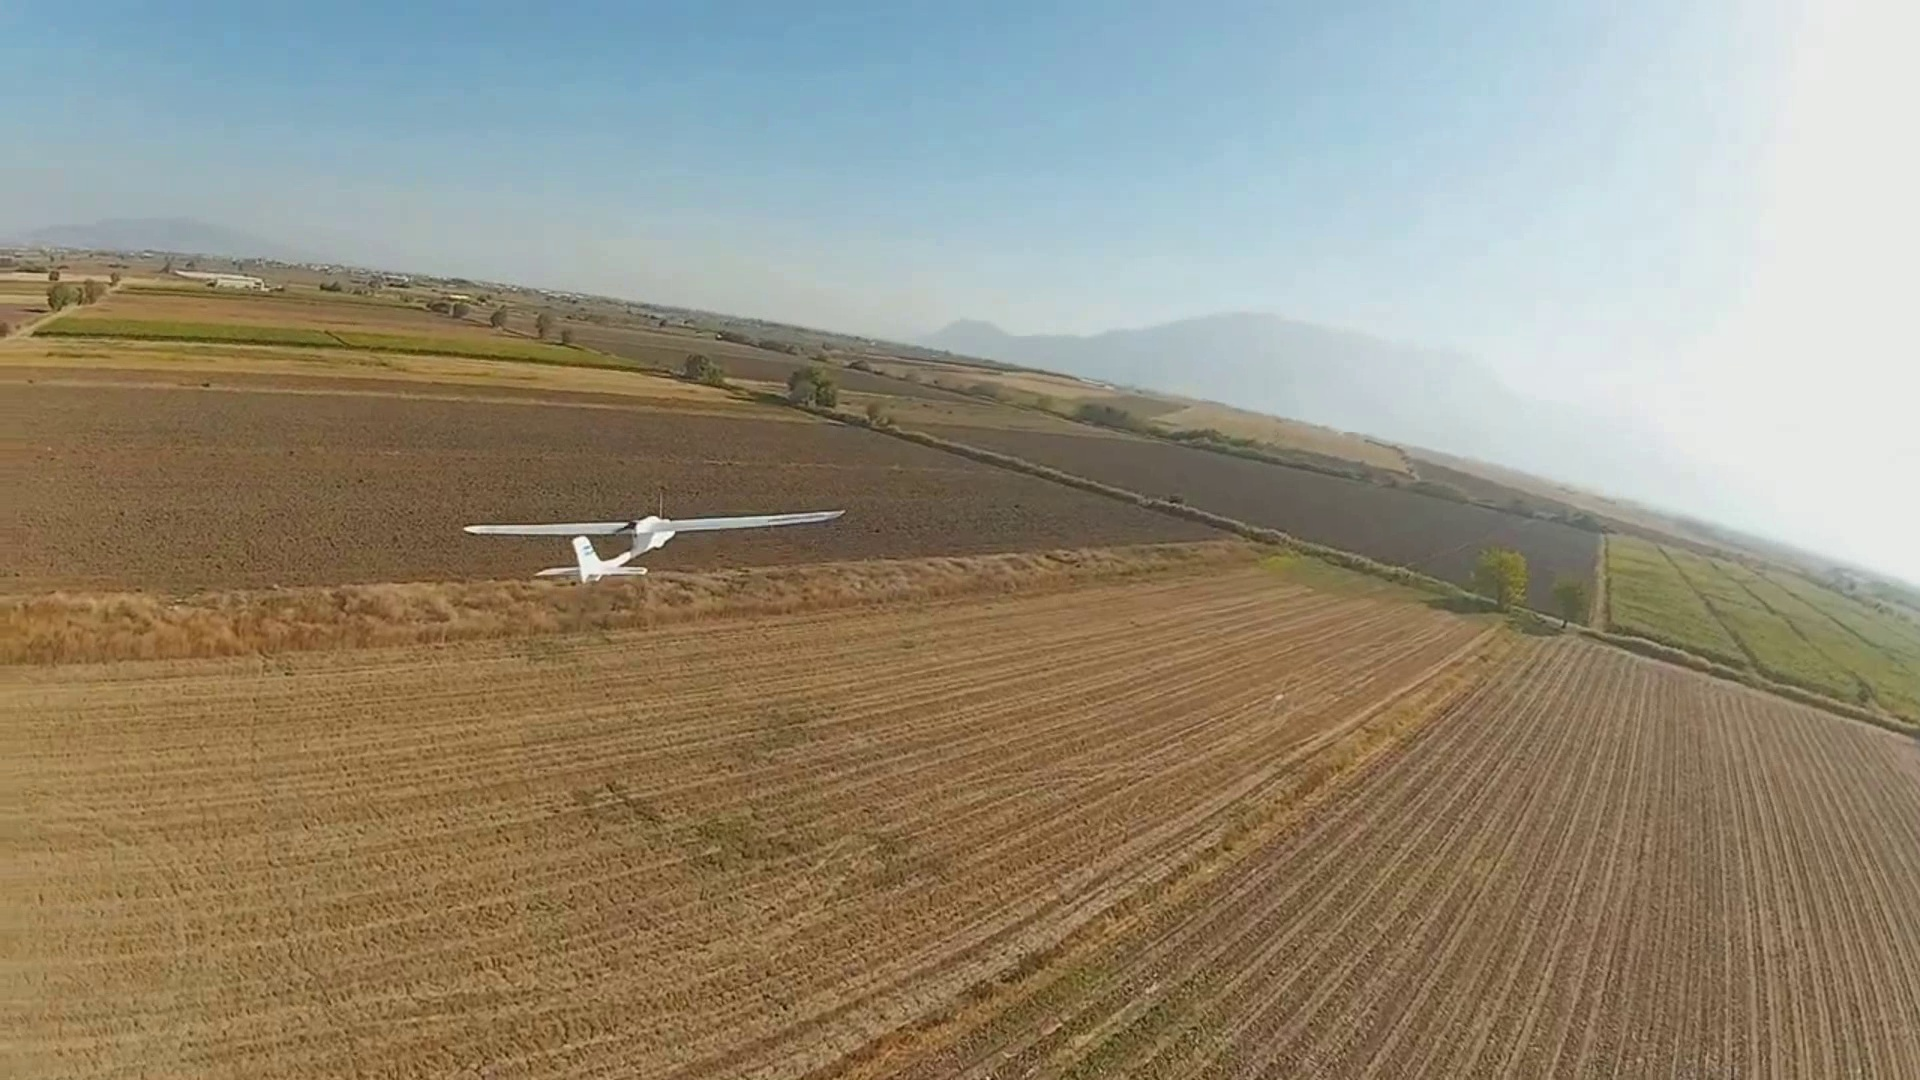airplane: (462, 498, 847, 584)
